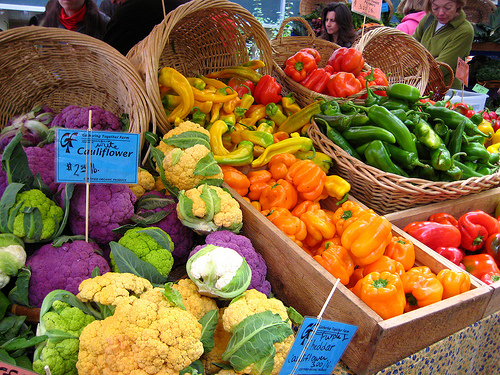cauliflower: (75, 297, 202, 374), (23, 234, 109, 310)
